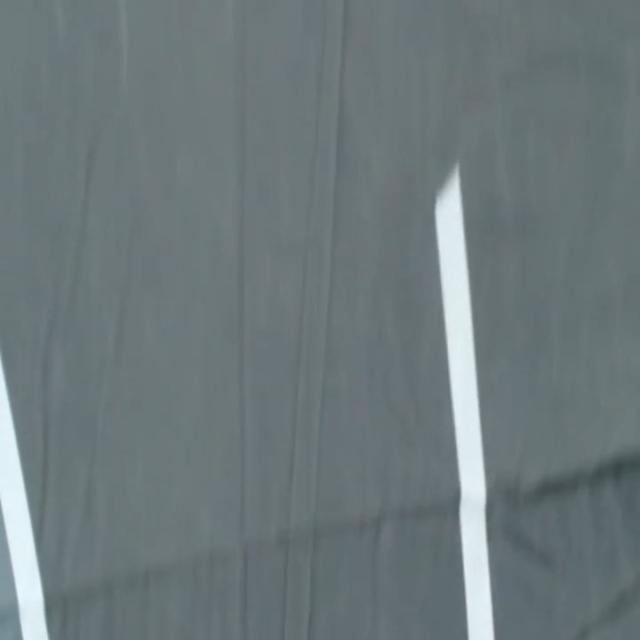center: (436, 164, 494, 639)
left: (0, 355, 48, 639)
